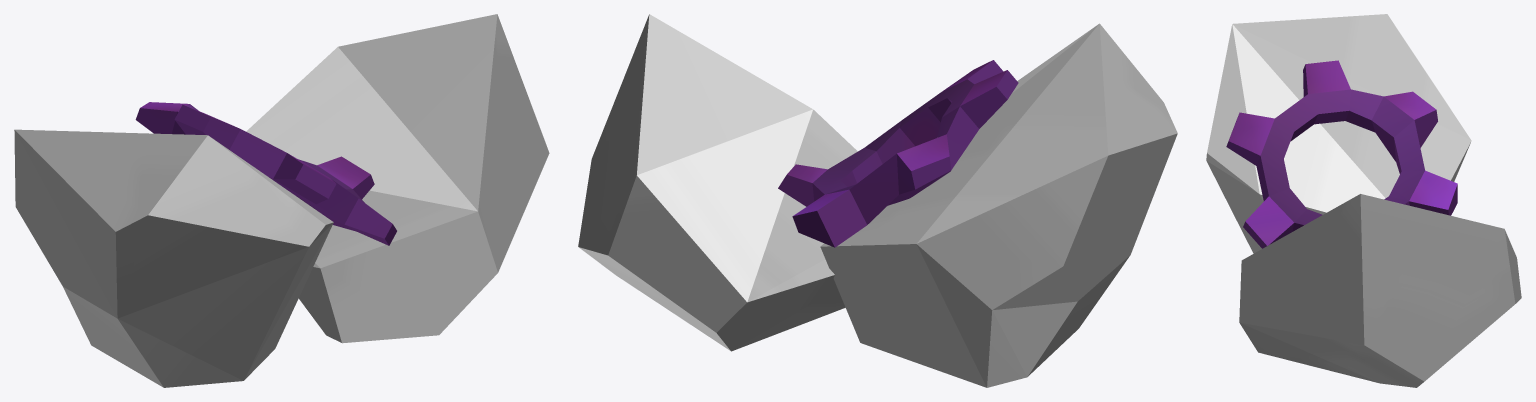
The model's file is obj_stone02_alt.gltf.
3 views of the same model, side by side, from view 1: azimuth 30°, elevation 25°; view 2: azimuth 150°, elevation 25°; view 3: azimuth 270°, elevation 25° (orthographic). The views are drawn at different scales.
Parts seen in each view (by area): view 1: obj_stone02_alt; view 2: obj_stone02_alt; view 3: obj_stone02_alt.
Boxes of the visible parts, bbox=[...] form: obj_stone02_alt: bbox=[14, 14, 549, 387]; obj_stone02_alt: bbox=[578, 14, 1177, 387]; obj_stone02_alt: bbox=[1206, 14, 1521, 387].
Size of what is drawn, in the model's own units: 1.14 by 0.5698 by 0.7106.
1 material, 1 textured.
